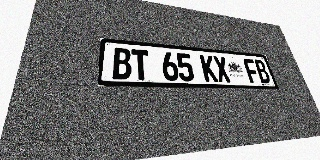5: (176, 53, 195, 81)
6: (161, 51, 180, 81)
B: (112, 47, 132, 80), (253, 59, 272, 83)
F: (243, 58, 261, 83)
K: (199, 55, 218, 82)
T: (131, 49, 150, 80)
X: (212, 56, 231, 82)
